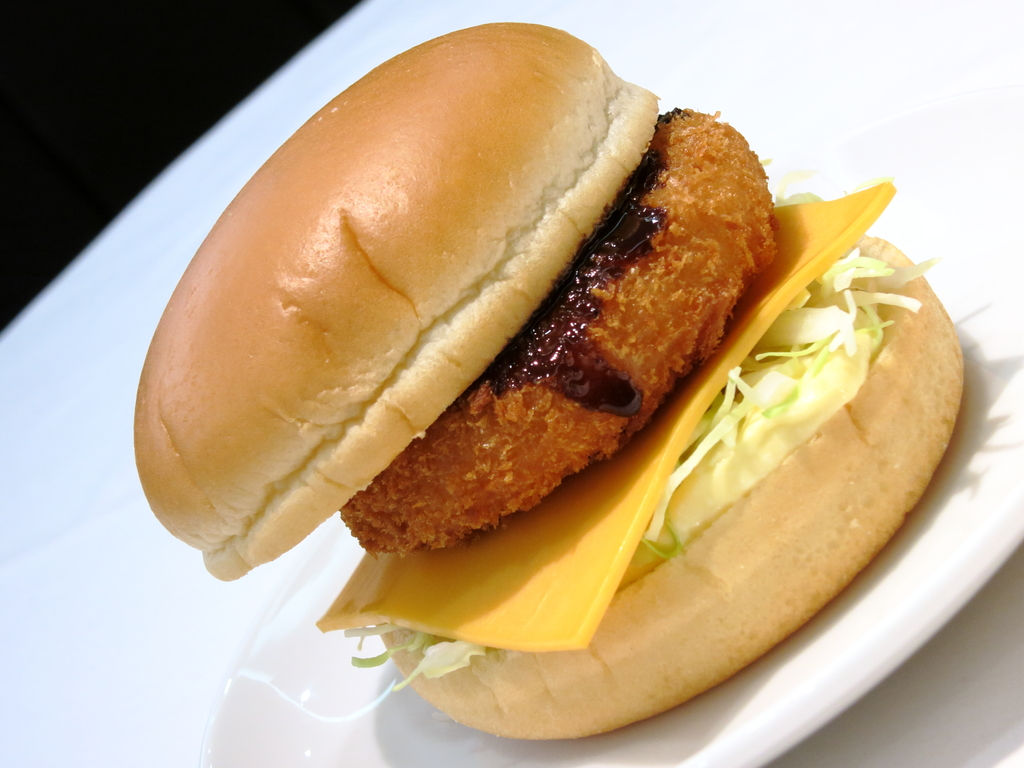Hamburger: (133, 18, 964, 737)
